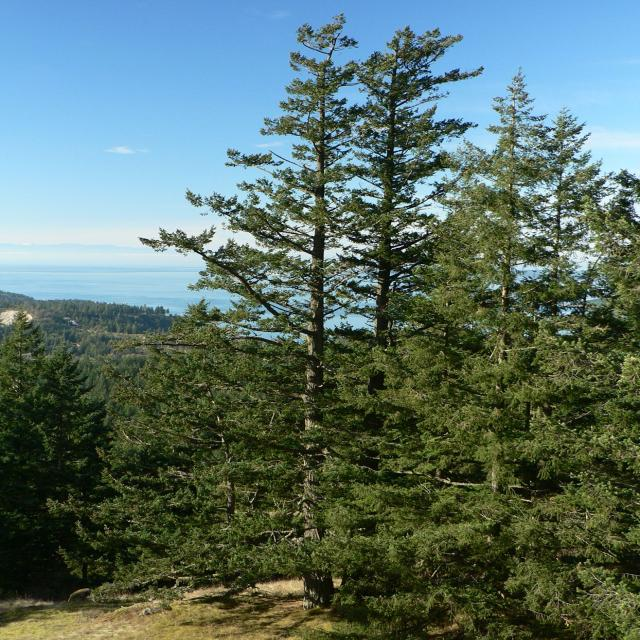Pseudotsuga menziesii: (141, 10, 427, 615), (382, 63, 567, 640)
